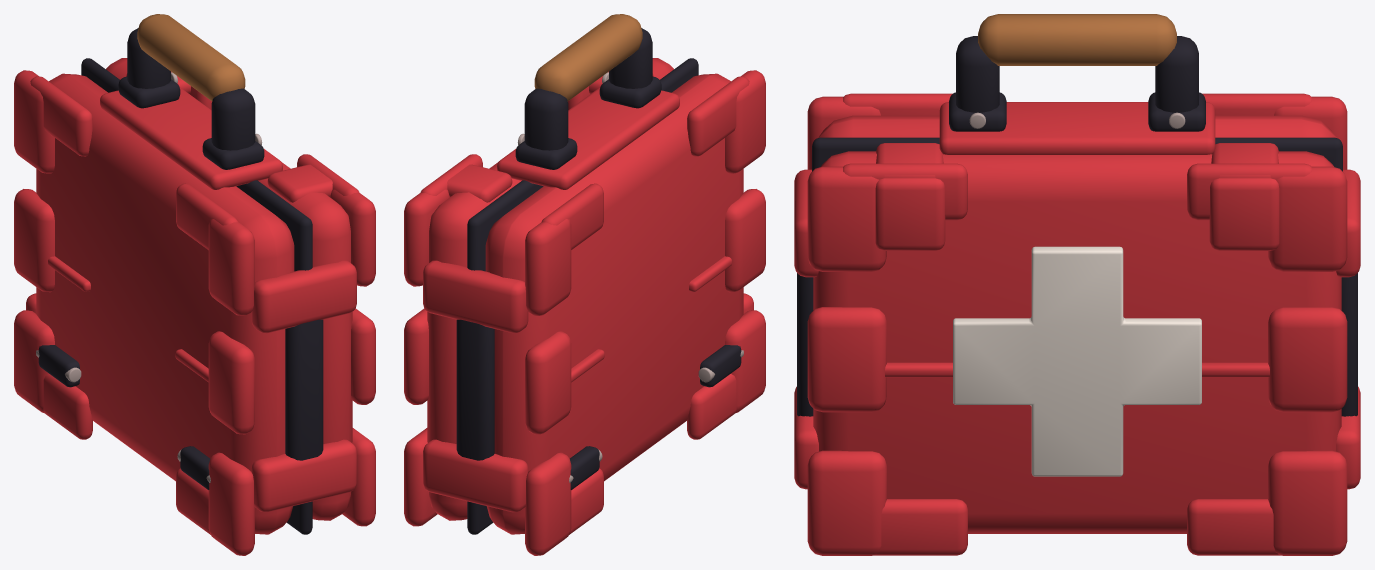
3 views of the same model, side by side, from view 1: azimuth 30°, elevation 25°; view 2: azimuth 150°, elevation 25°; view 3: azimuth 270°, elevation 25° (orthographic). The views are drawn at different scales.
Visible parts, largest first — view 1: body_pal_survivorRed, lid_pal_survivorRed, body_pal_uiDark, handle_pal_woodWarm, handle_pal_uiDark; view 2: body_pal_survivorRed, lid_pal_survivorRed, body_pal_uiDark, handle_pal_woodWarm, handle_pal_uiDark; view 3: lid_pal_survivorRed, lid_pal_picketWhite, body_pal_survivorRed, handle_pal_woodWarm, body_pal_uiDark, handle_pal_uiDark.
Boxes of the visible parts, x1,y1,x2,y2 form: body_pal_survivorRed: (14,70,356,555); lid_pal_survivorRed: (106,58,375,526); body_pal_uiDark: (38,58,323,534); handle_pal_woodWarm: (137,14,245,101); handle_pal_uiDark: (127,28,255,150); body_pal_survivorRed: (423,70,765,555); lid_pal_survivorRed: (404,58,673,526); body_pal_uiDark: (456,58,741,534); handle_pal_woodWarm: (534,14,642,101); handle_pal_uiDark: (524,28,652,150); lid_pal_survivorRed: (807,143,1347,555); lid_pal_picketWhite: (953,246,1201,476); body_pal_survivorRed: (794,93,1360,489); handle_pal_woodWarm: (978,14,1176,65); body_pal_uiDark: (797,92,1357,416); handle_pal_uiDark: (956,36,1198,112).
Size of the model in its own units: 0.2655 by 0.7305 by 0.75.
